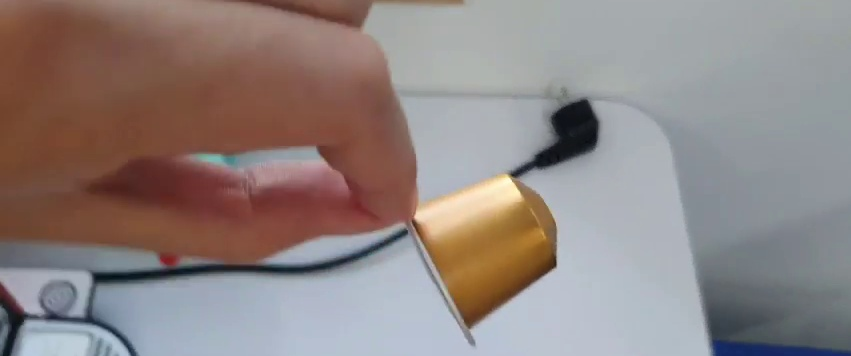capsule_8: (399, 170, 562, 345)
